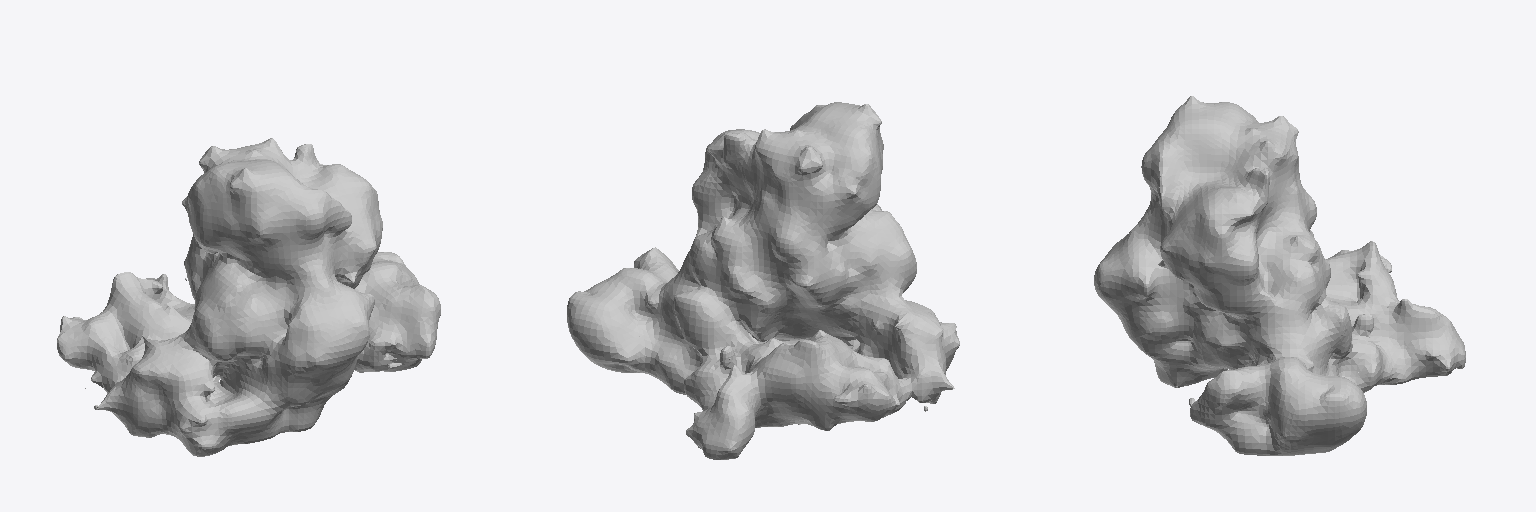
The model's file is cloud.obj.
3 views of the same model, side by side, from view 1: azimuth 30°, elevation 25°; view 2: azimuth 150°, elevation 25°; view 3: azimuth 270°, elevation 25° (orthographic).
Visible parts, largest first — view 1: 1008.001; view 2: 1008.001; view 3: 1008.001.
Boxes of the visible parts, box(x1,y1,x2,y2) form: 1008.001: box(57, 138, 440, 456); 1008.001: box(567, 102, 959, 459); 1008.001: box(1094, 96, 1465, 455).
Bounding box in the file's own units: 20.15 × 14.85 × 18.78.